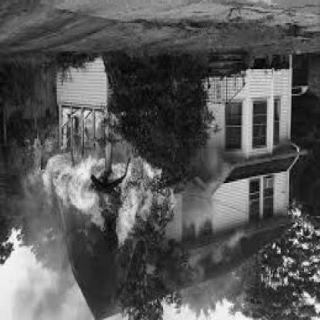Fire: (35, 110, 177, 241)
Smoke: (186, 158, 223, 228), (184, 274, 224, 316)
